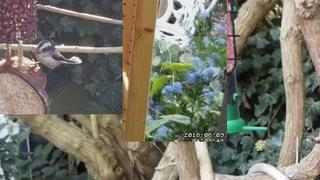long tailed tit: (31, 40, 83, 76)
